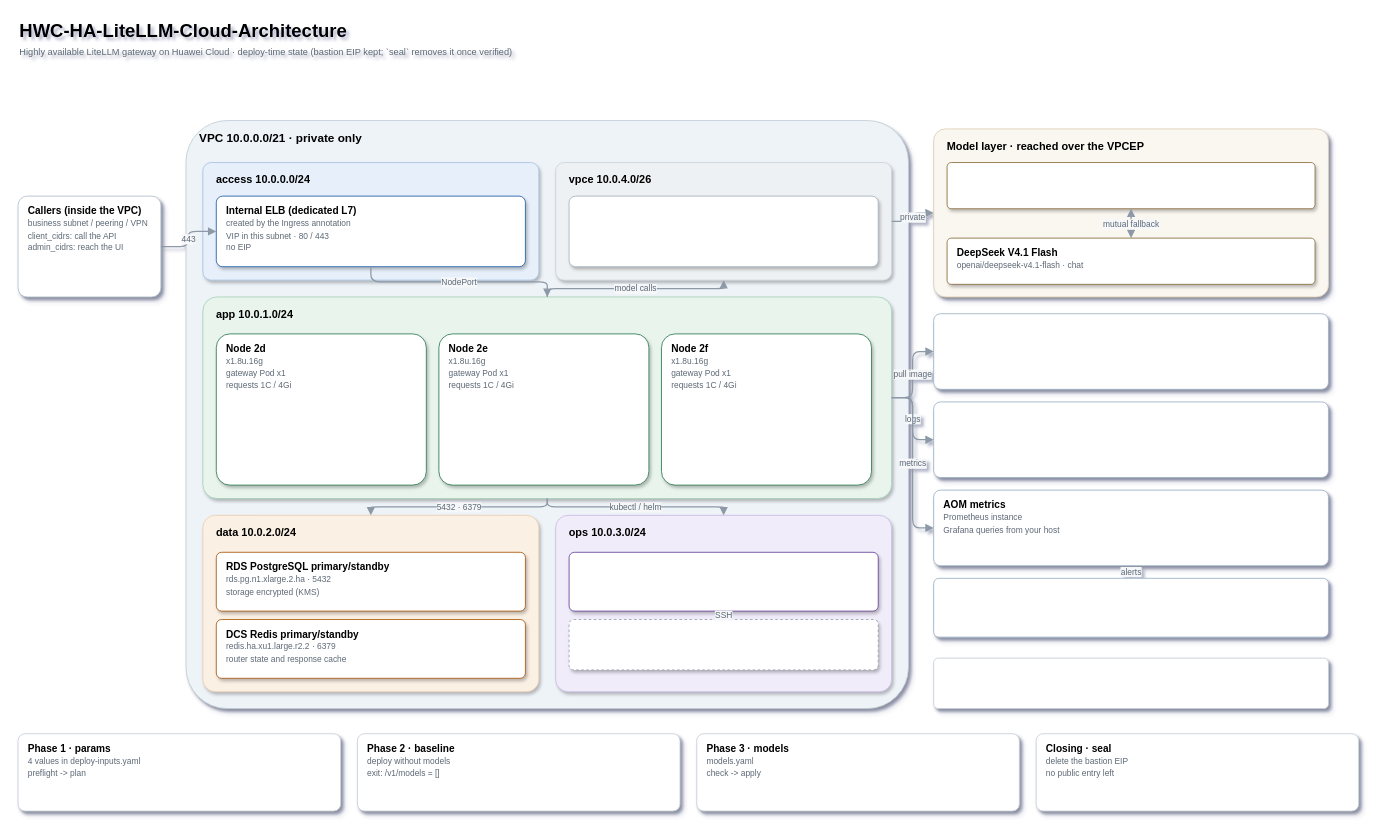
Image size: 1383x837. Some labels were removed from this diagram. Here are the shapes that lost their labels. From the top down, the centre of each, then its label:
the point at 1131,186: GLM-5.3 openai/glm-5.3 · chat
the point at 724,232: VPCEP endpoint model traffic never leaves the VPC
the point at 1131,352: SWR image registry bastion push -> node pull intranet 100.125.x
the point at 1131,440: LTS logs ELB access logs container stdout
the point at 724,582: Bastion host c7.large.2 · kubectl / helm / smoke tests
the point at 1131,608: SMN alerts AOM rules -> email
the point at 724,645: EIP 300 Mbit/s pay-per-traffic · removed by seal
the point at 1131,684: KMS · CSMS · IAM storage encryption / generated passwords / least privilege
